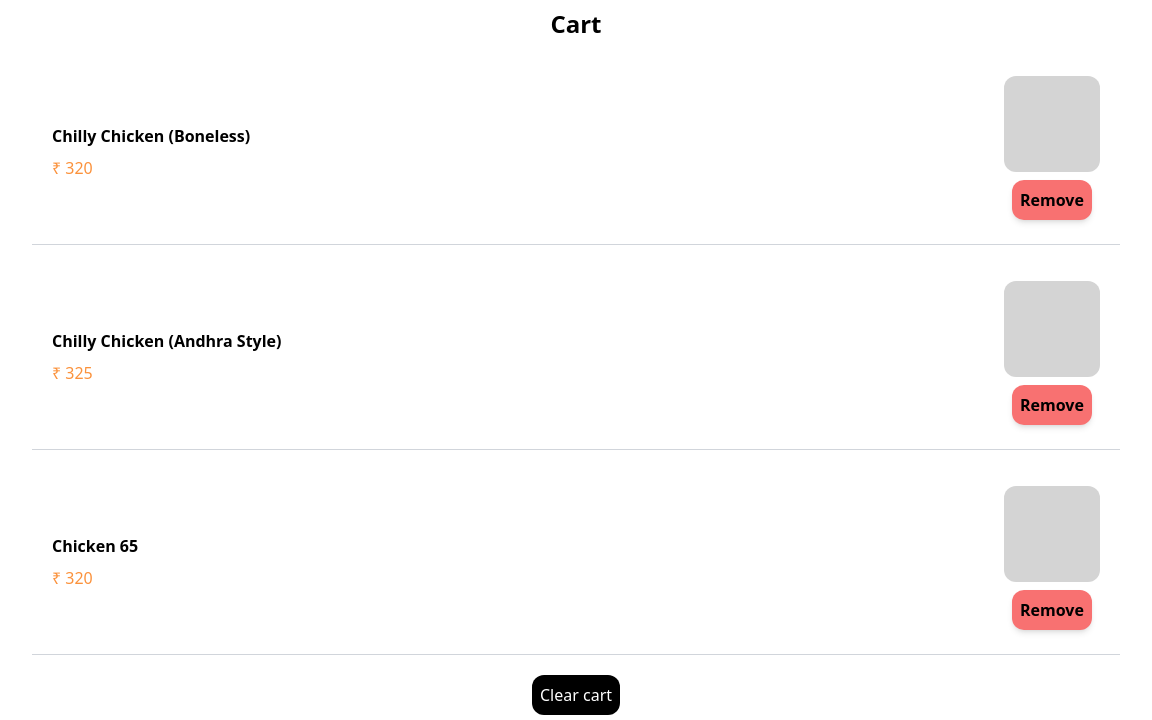
Should remove item on click of Remove button
The width and height of the screenshot is (1152, 720).
Click the 1st button "Remove".
click(1052, 200)  # box [1012,180,1092,220]
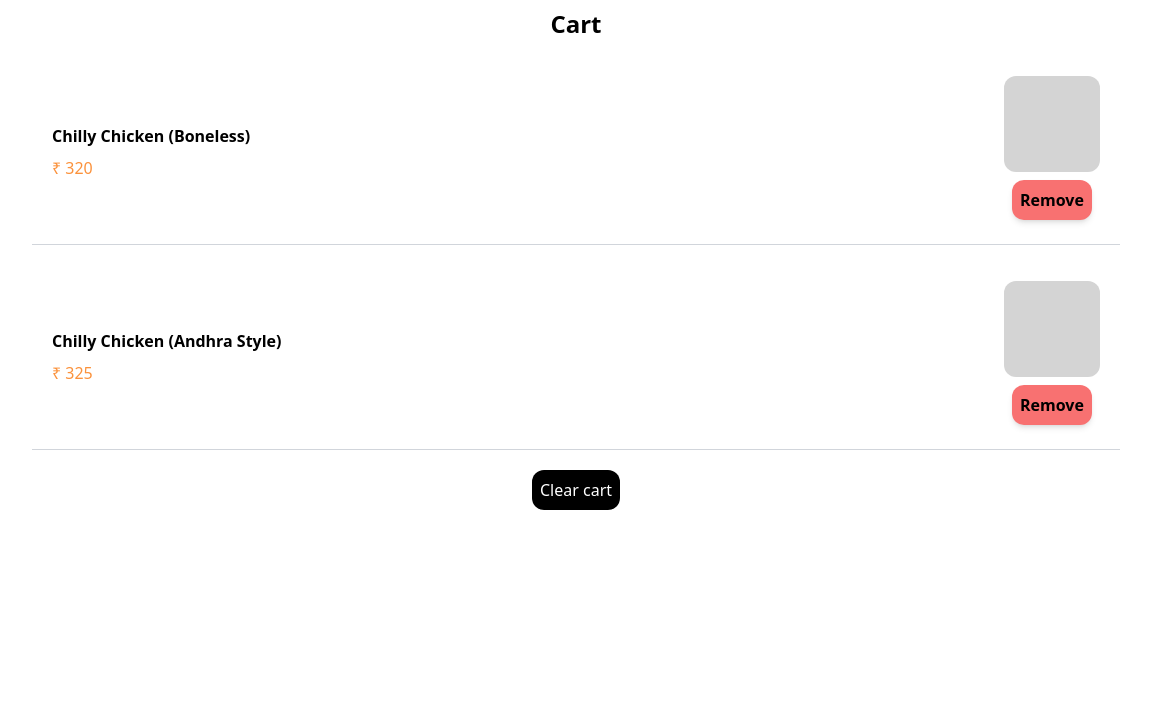
Now the number of elements with test id "CartItem" is 2, box [32,60,1120,245]; [32,265,1120,450]
